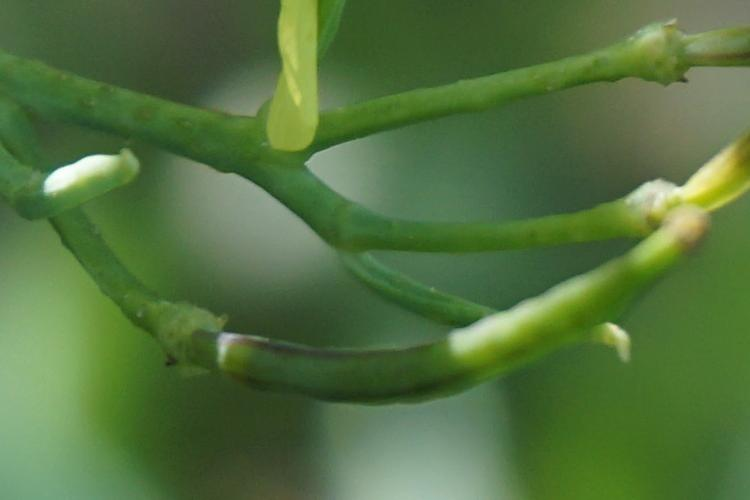bud: (169, 178, 723, 432)
